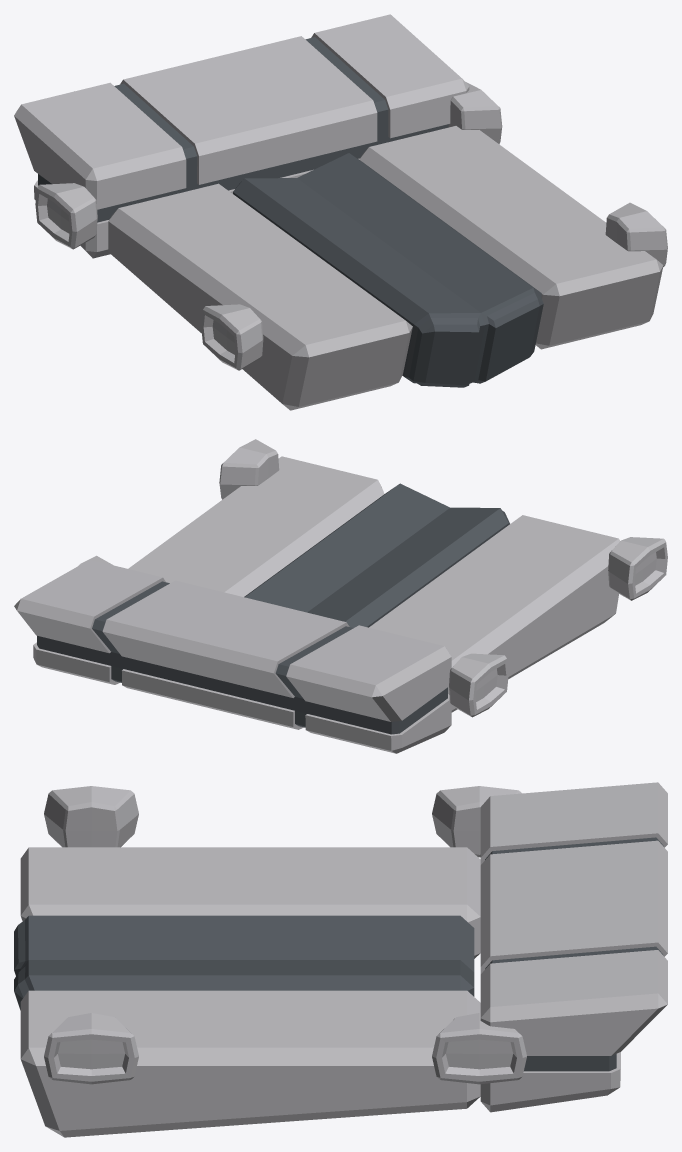
Rendered from Dropship_01_Base.fbx.
The picture shows the model from 3 angles, top to bottom: view 1: azimuth 30°, elevation 25°; view 2: azimuth 150°, elevation 25°; view 3: azimuth 270°, elevation 25°; orthographic projection. The views are drawn at different scales.
Parts seen in each view (by area): view 1: Dropship_01_Base; view 2: Dropship_01_Base; view 3: Dropship_01_Base.
Boxes of the visible parts, <box> form: Dropship_01_Base: <box>14,14,667,410</box>; Dropship_01_Base: <box>14,439,667,753</box>; Dropship_01_Base: <box>14,782,667,1137</box>.
Bounding box in the file's own units: 925 × 292 × 1041.
Materials: 1 (1 with a texture image).
